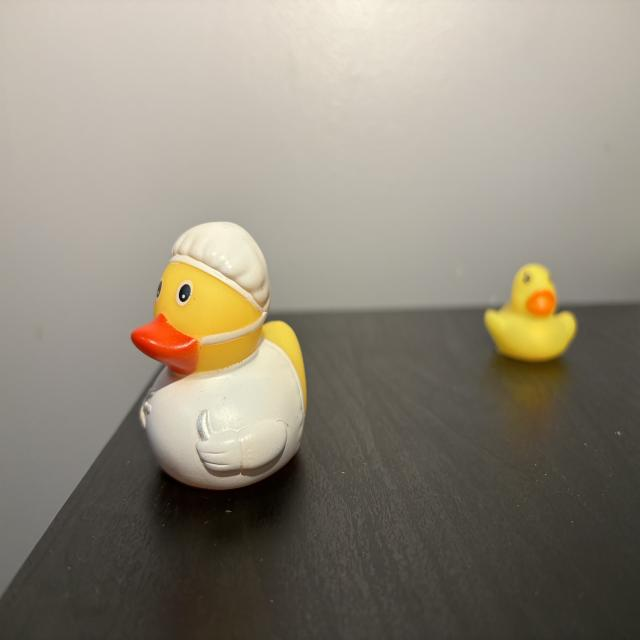duck_regular: (486, 264, 576, 361)
duck_specialty: (133, 222, 306, 488)
